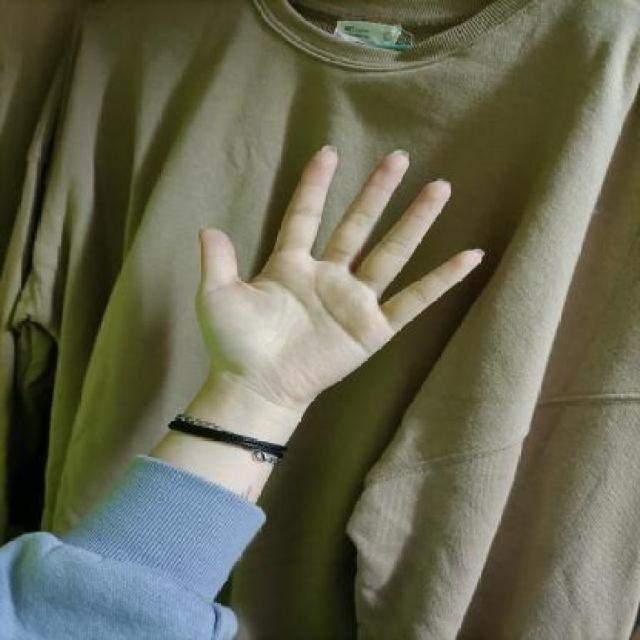bare_hand: (180, 133, 498, 421)
